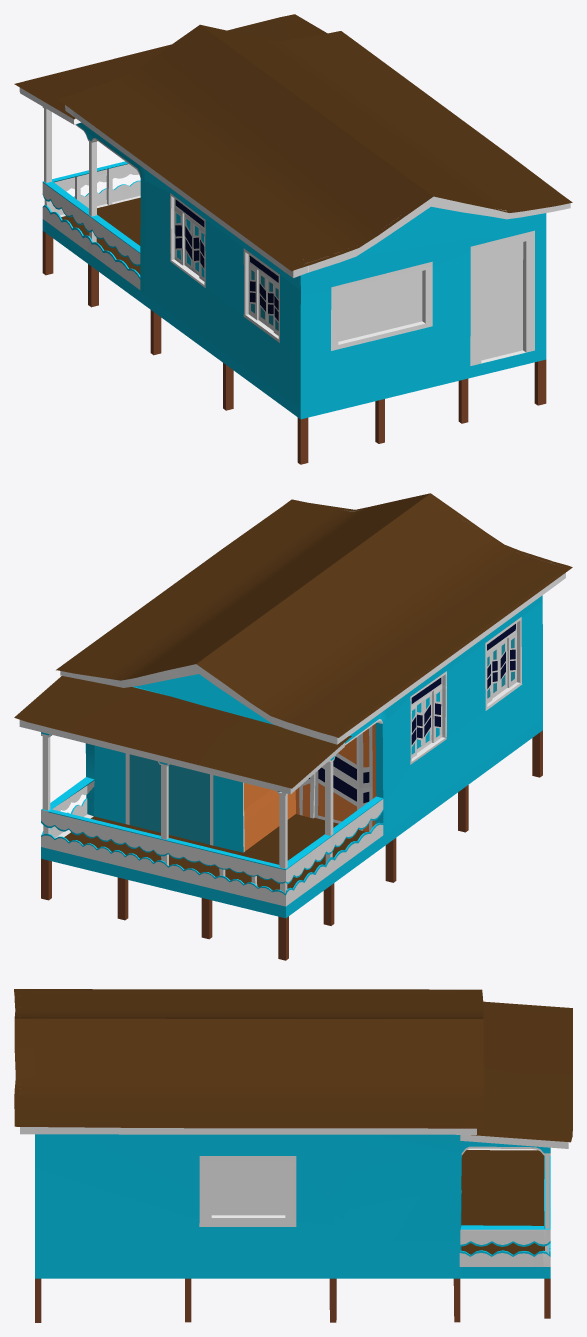
Rendered from Palafita4.3.fbx.
3 renders of one model, top to bottom at view 1: azimuth 30°, elevation 25°; view 2: azimuth 150°, elevation 25°; view 3: azimuth 270°, elevation 25°, orthographic.
Parts seen in each view (by area): view 1: Cubo; view 2: Cubo; view 3: Cubo.
Boxes of the visible parts, <box> form: Cubo: <box>14,14,572,464</box>; Cubo: <box>14,493,572,960</box>; Cubo: <box>14,989,572,1322</box>.
Size of the model in its own units: 402 by 332 by 684.
